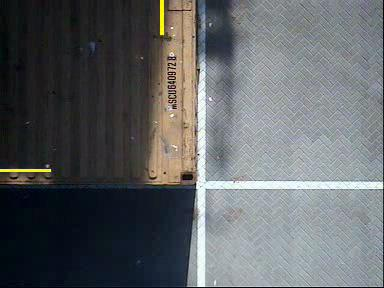groundmarker_2: (195, 156, 244, 215)
